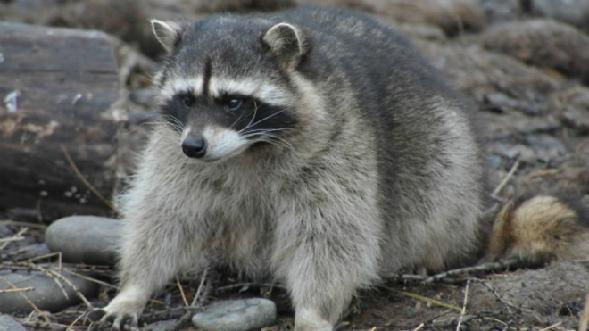raccoon: (96, 4, 582, 331)
